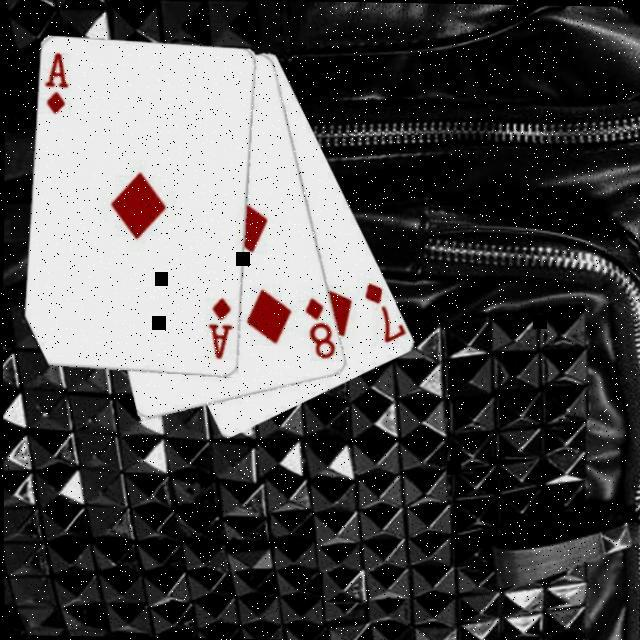7D: (361, 276, 408, 344)
8D: (302, 292, 340, 361)
AD: (206, 292, 238, 360), (44, 48, 73, 114)
